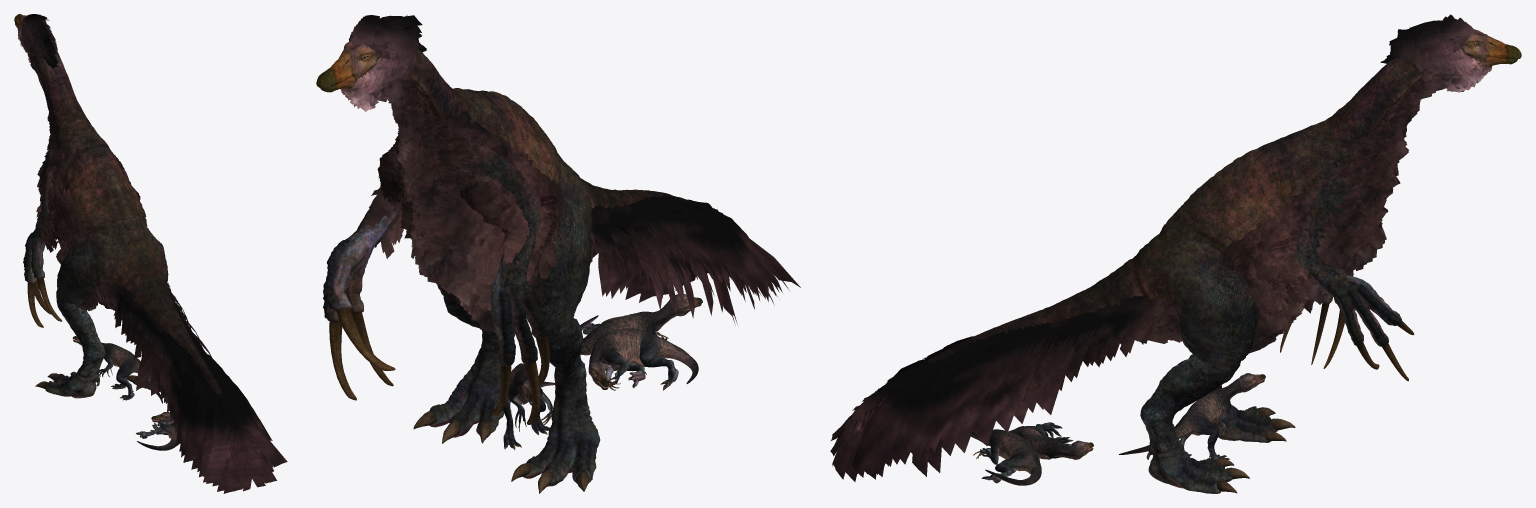
Rendered from terizinossauro_freddy.glb.
3 renders of one model, left to right at view 1: azimuth 30°, elevation 25°; view 2: azimuth 150°, elevation 25°; view 3: azimuth 270°, elevation 25°, orthographic. The views are drawn at different scales.
Visible parts, largest first — view 1: meshBase1, hair1, babys, nails; view 2: hair1, meshBase1, babys, nails, claws; view 3: hair1, meshBase1, babys, nails, claws.
Boxes of the visible parts, x1=… form: meshBase1: x1=14, y1=14, x2=222, y2=398; hair1: x1=18, y1=14, x2=287, y2=493; babys: x1=72, y1=336, x2=176, y2=450; nails: x1=27, y1=241, x2=160, y2=427; hair1: x1=340, y1=15, x2=800, y2=332; meshBase1: x1=316, y1=41, x2=690, y2=486; babys: x1=503, y1=294, x2=702, y2=448; nails: x1=329, y1=307, x2=668, y2=431; claws: x1=413, y1=323, x2=671, y2=493; hair1: x1=830, y1=14, x2=1491, y2=481; meshBase1: x1=927, y1=29, x2=1521, y2=493; babys: x1=970, y1=373, x2=1265, y2=485; nails: x1=973, y1=302, x2=1414, y2=458; claws: x1=981, y1=407, x2=1295, y2=493.
Size of the model in its own units: 2.12 by 5.43 by 7.62.
9 materials, 8 textured.
